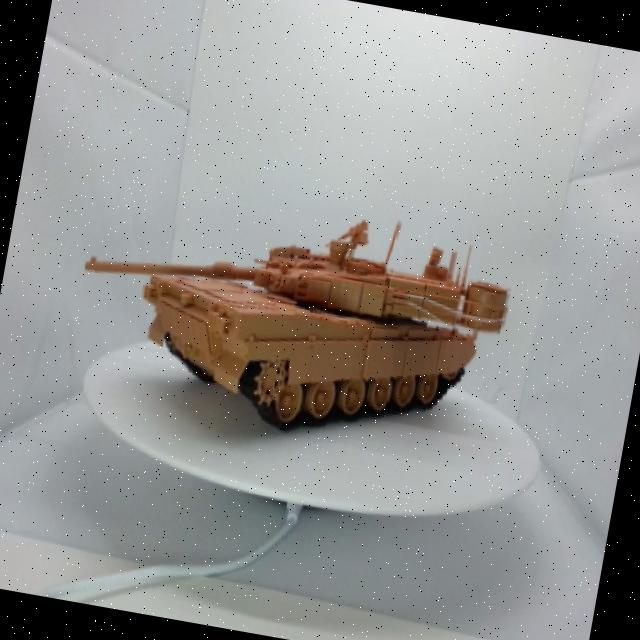korea tank: (52, 146, 528, 470)
